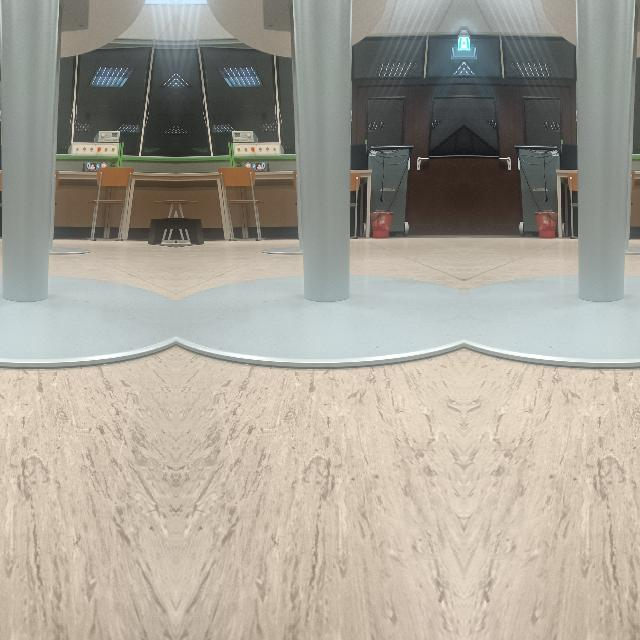obstacle: (178, 120, 462, 368), (465, 120, 640, 368), (0, 120, 172, 368)
